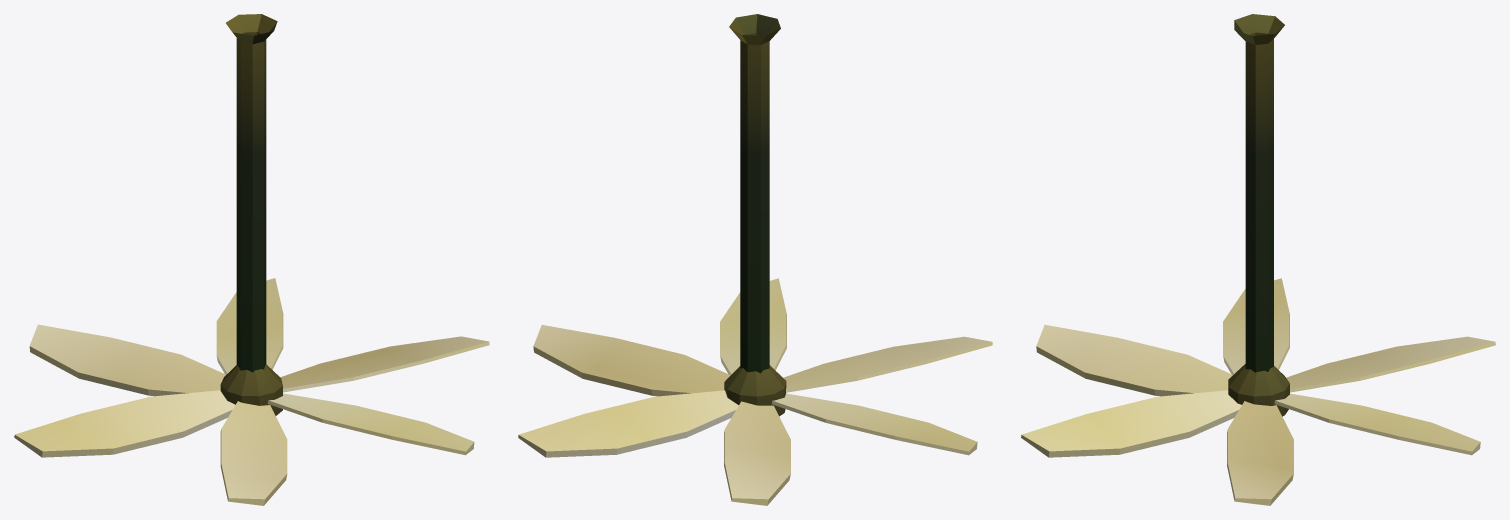
File: fan.fbx
The picture shows the model from 3 angles, left to right: view 1: azimuth 30°, elevation 25°; view 2: azimuth 150°, elevation 25°; view 3: azimuth 270°, elevation 25°; orthographic projection.
Visible parts, largest first — view 1: blades 1, blades 2, shaft and light, top; view 2: blades 1, blades 2, shaft and light, top; view 3: blades 1, blades 2, shaft and light, top.
Boxes of the visible parts, x1=… form: blades 1: x1=29, y1=324, x2=489, y2=505; blades 2: x1=14, y1=278, x2=474, y2=457; shaft and light: x1=220, y1=32, x2=282, y2=415; top: x1=226, y1=14, x2=277, y2=44; blades 1: x1=533, y1=325, x2=992, y2=505; blades 2: x1=518, y1=278, x2=977, y2=457; shaft and light: x1=724, y1=33, x2=786, y2=415; top: x1=729, y1=14, x2=780, y2=44; blades 1: x1=1036, y1=324, x2=1495, y2=505; blades 2: x1=1021, y1=278, x2=1480, y2=457; shaft and light: x1=1228, y1=32, x2=1289, y2=415; top: x1=1234, y1=14, x2=1284, y2=44.
Bounding box in the file's own units: 216 × 184 × 197.
Materials: 3 (3 with a texture image).
